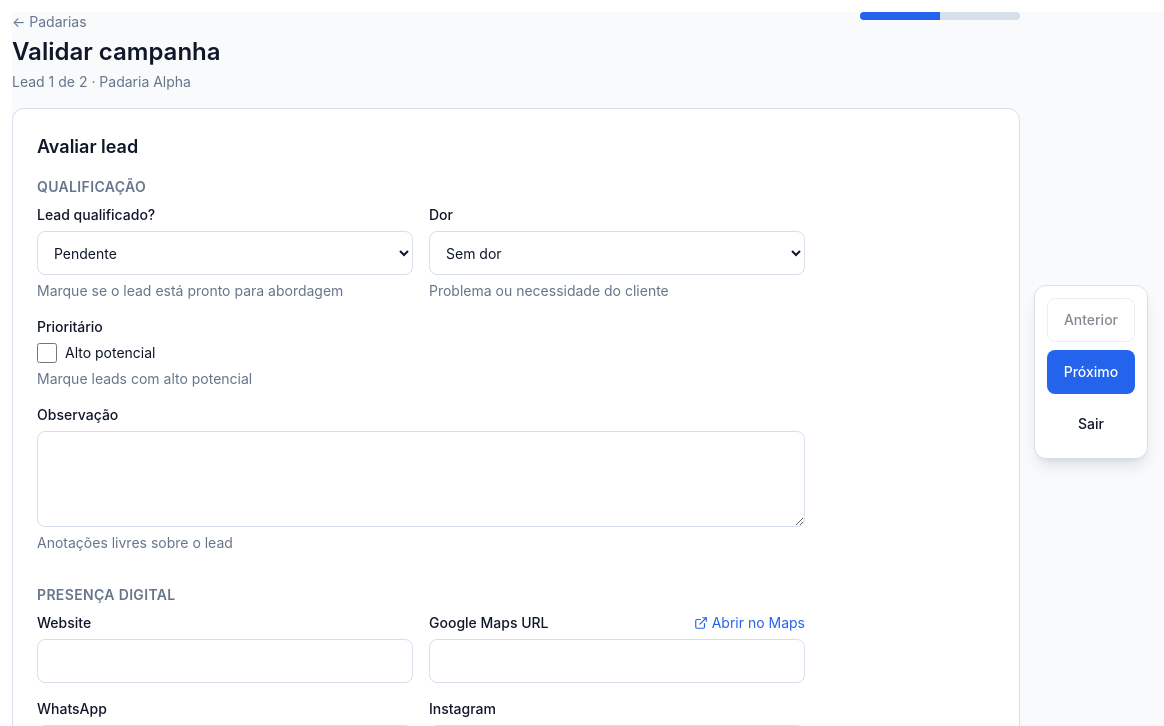
Test: CampaignValidatePage › saves the current lead and advances to the next one
The width and height of the screenshot is (1164, 726).
Expected: the text "Lead 1 de 2 · Padaria Alpha" is shown, [12,72,220,92]
Expected: the button "Anterior" is disabled, [1047,298,1135,342]
Select "Qualificado" in the dropdown named "Status de qualificação" at (225, 253), box [37,231,413,275]
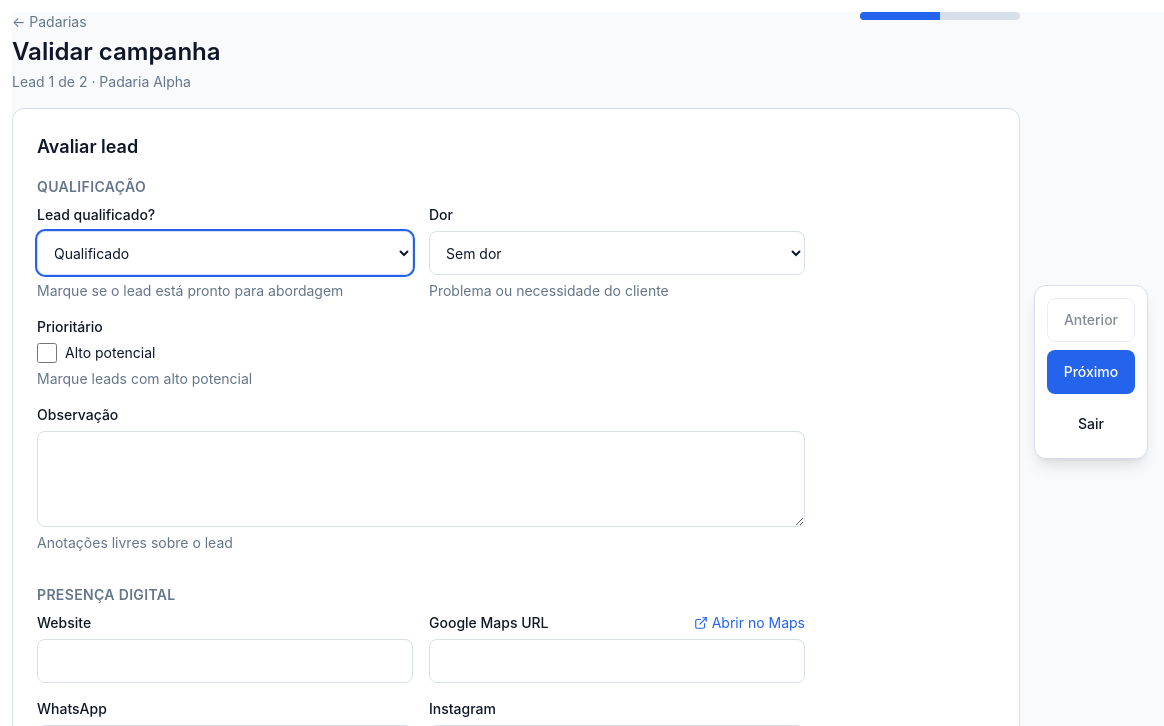
Click the button "Próximo" at (1091, 372), box [1047,350,1135,394]
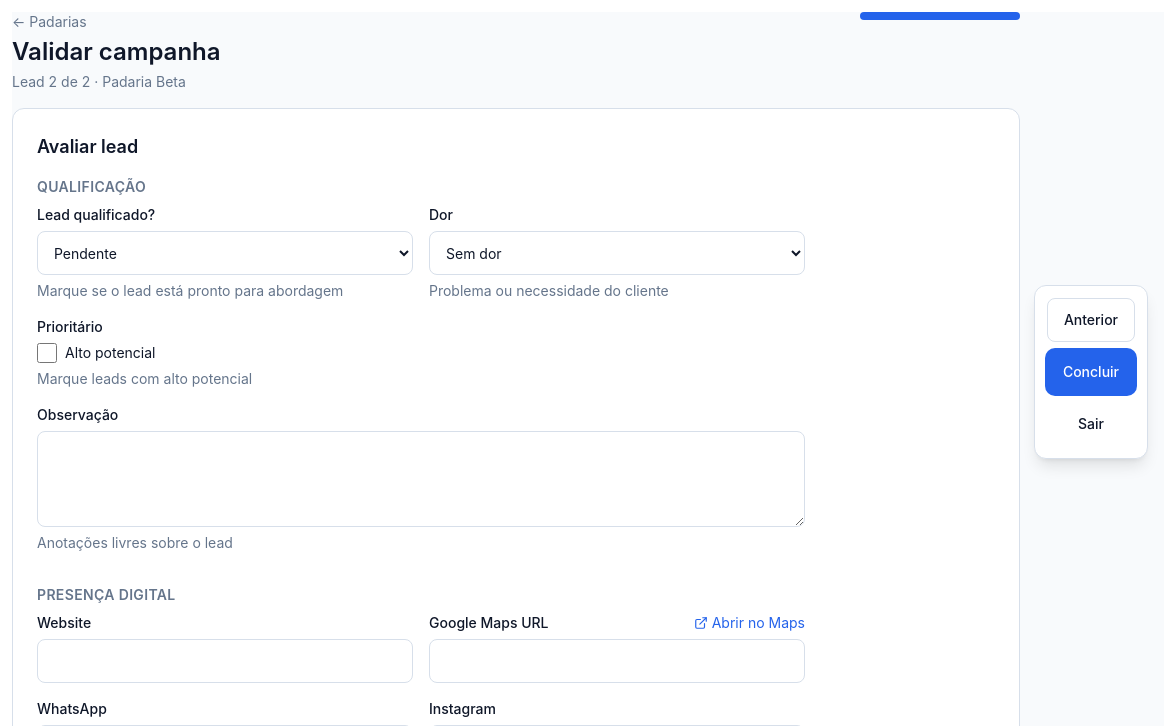
Expected: the text "Lead 2 de 2 · Padaria Beta" is shown, [12,73,186,90]
Expected: the button "Concluir" is shown, [1047,350,1135,394]
